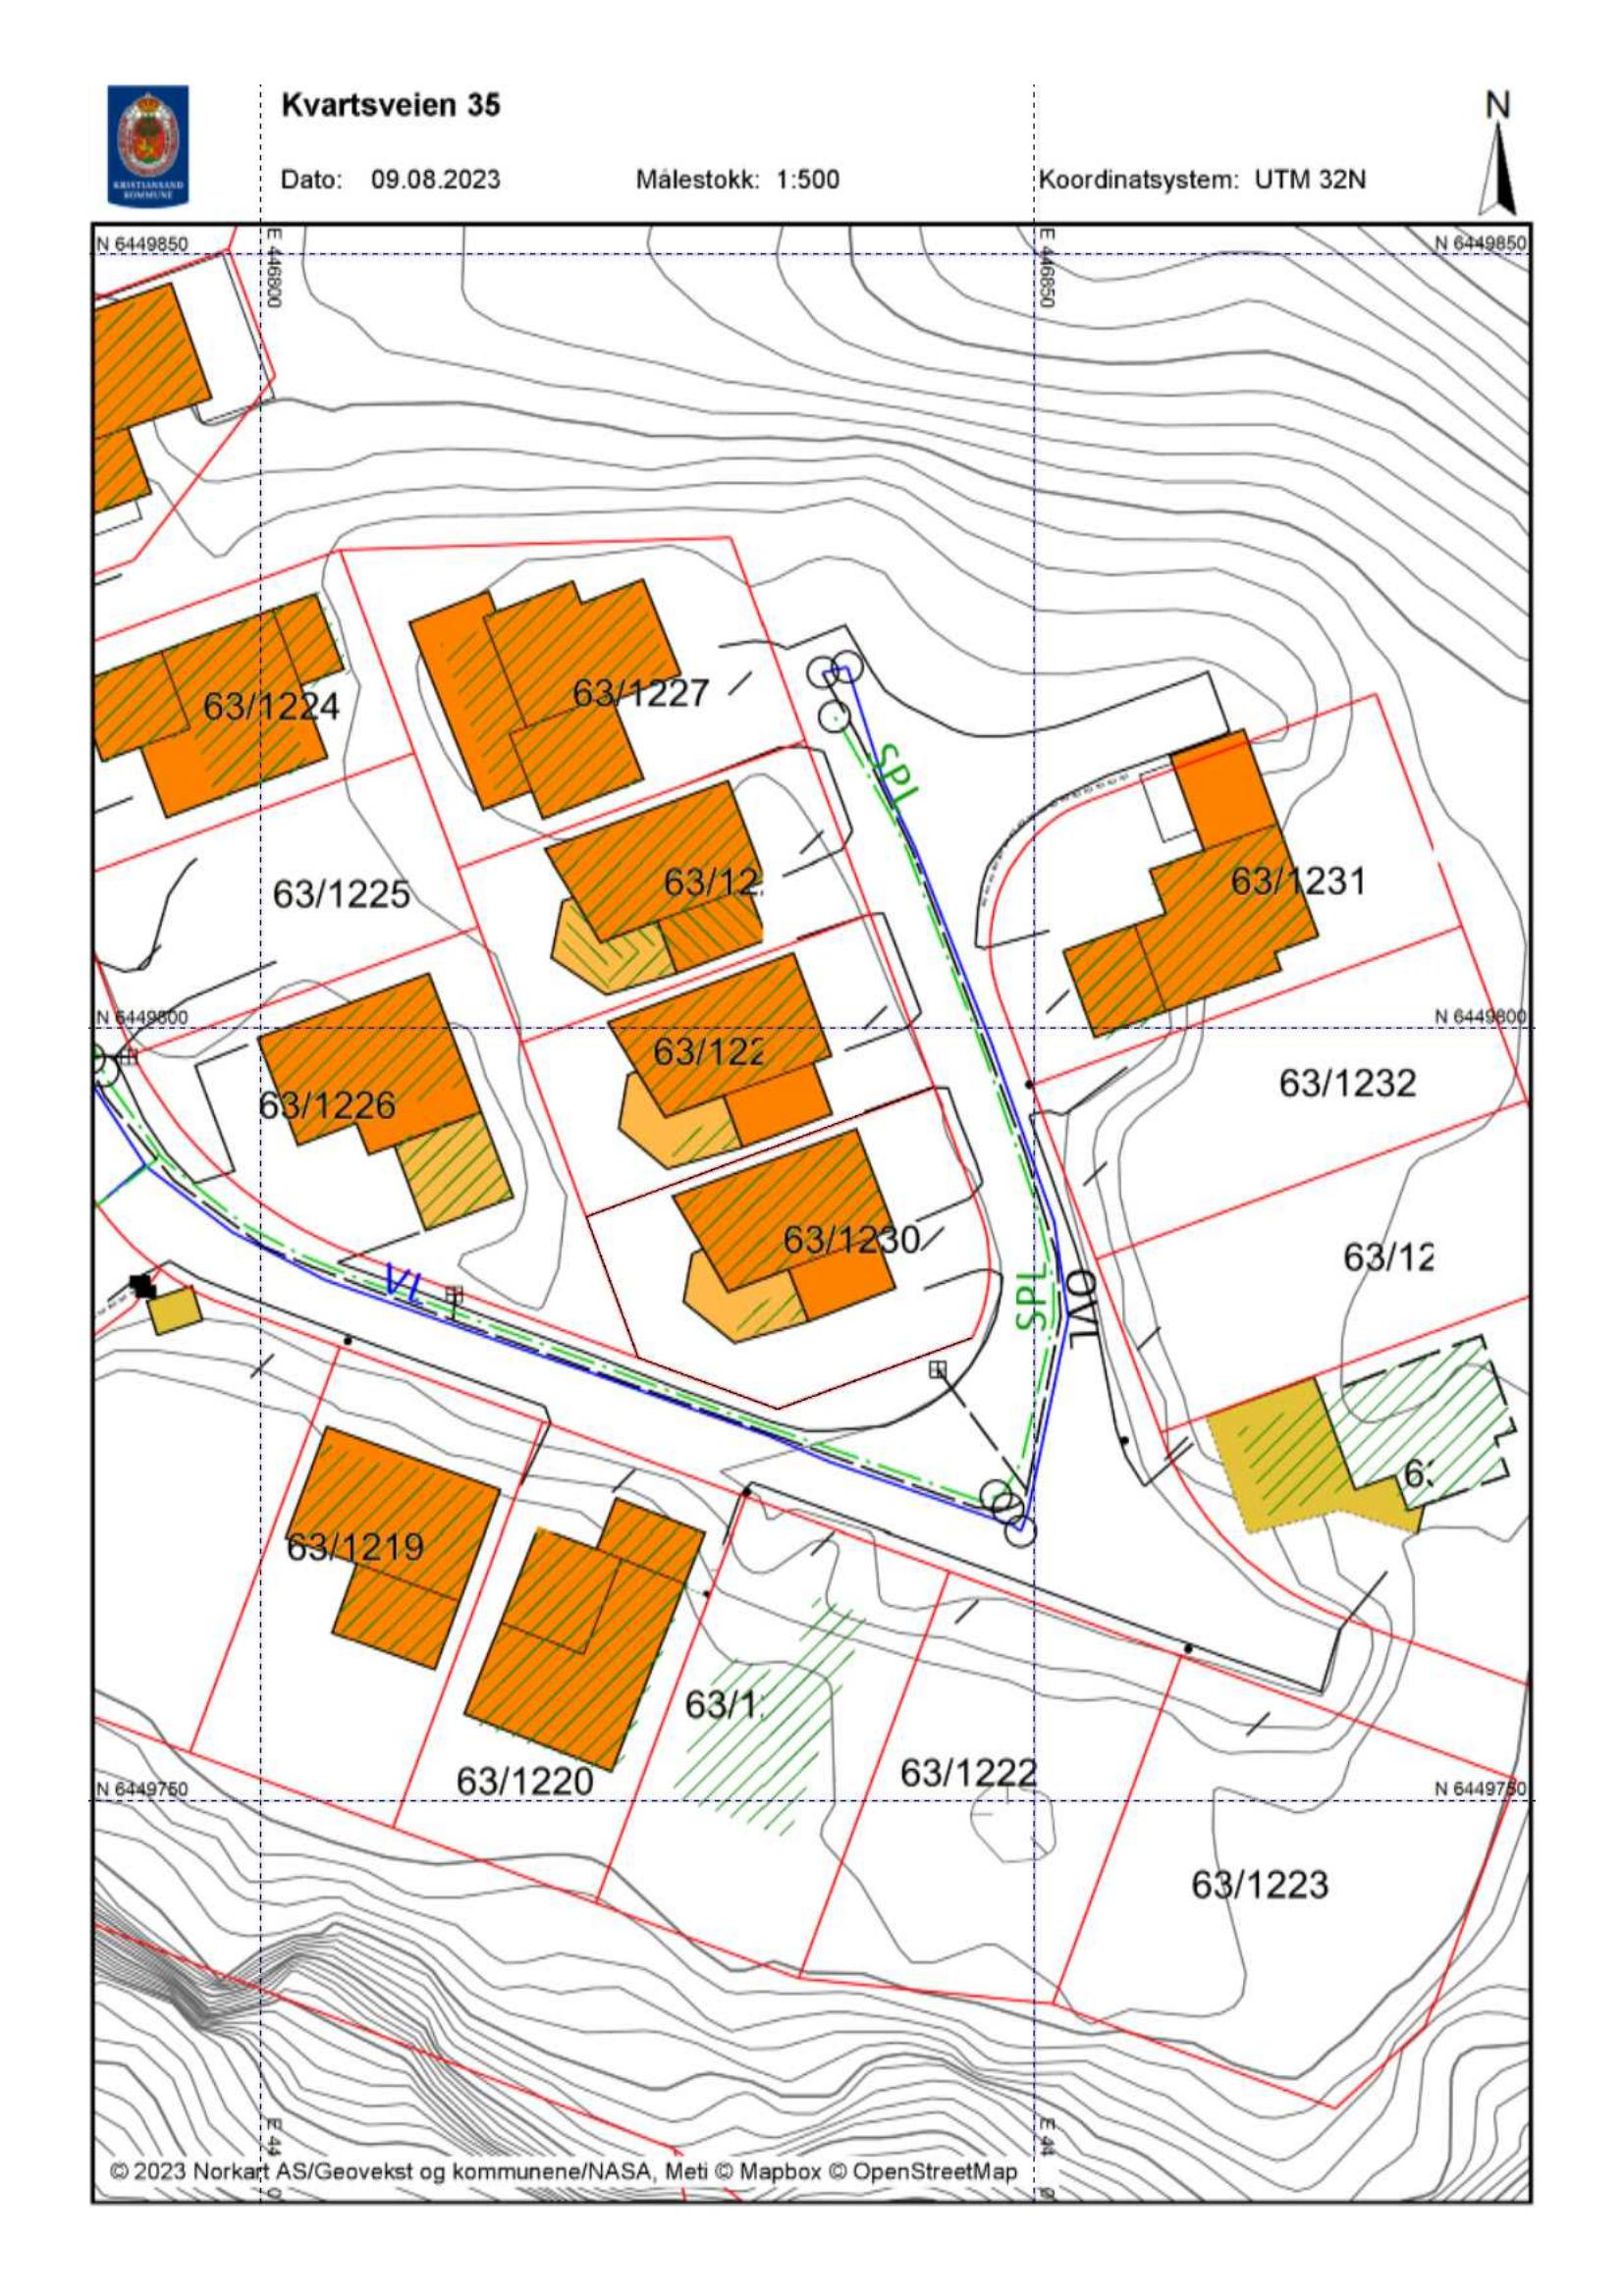situasjonskart: (97, 235, 1538, 2194)
